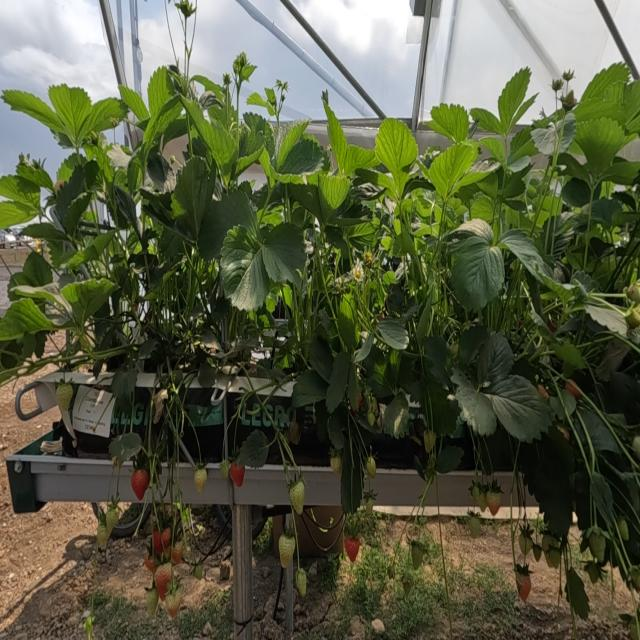Flowers: (352, 262, 364, 281)
Leaves: (519, 428, 575, 536), (322, 94, 379, 178), (450, 221, 503, 311), (485, 376, 551, 442), (181, 97, 236, 176), (220, 226, 268, 311), (198, 190, 255, 260), (172, 156, 214, 240), (375, 119, 418, 196), (574, 63, 628, 123), (575, 117, 624, 179), (426, 141, 477, 198), (261, 223, 306, 287), (453, 368, 495, 435), (499, 230, 552, 279), (18, 281, 75, 326), (3, 90, 64, 132), (49, 84, 91, 144), (62, 279, 115, 324), (423, 370, 459, 435), (476, 332, 514, 389), (0, 299, 54, 339), (499, 68, 530, 132), (56, 165, 84, 234), (144, 97, 179, 149), (278, 136, 323, 175), (341, 434, 363, 513), (541, 211, 577, 259), (81, 97, 122, 139), (105, 183, 138, 232), (318, 174, 350, 224), (276, 121, 308, 170), (582, 410, 618, 452), (429, 104, 467, 143), (327, 352, 352, 411), (350, 169, 396, 201), (147, 67, 172, 124), (363, 346, 391, 396), (245, 113, 275, 158), (424, 336, 450, 387), (470, 195, 499, 240), (292, 370, 327, 407), (585, 305, 628, 335), (291, 185, 330, 218), (0, 175, 40, 207), (308, 334, 334, 382), (16, 156, 53, 189), (458, 325, 489, 364), (146, 149, 174, 192), (383, 392, 409, 438), (565, 568, 588, 619), (591, 474, 613, 525), (237, 431, 268, 467), (112, 368, 136, 414), (340, 220, 375, 251), (460, 159, 500, 186), (109, 432, 142, 463), (377, 316, 407, 350), (340, 293, 360, 343), (119, 85, 148, 119), (23, 252, 51, 286), (0, 201, 35, 228), (606, 158, 640, 185), (470, 108, 503, 135), (555, 342, 585, 370), (337, 312, 357, 354), (511, 127, 536, 160), (435, 446, 463, 474), (393, 223, 416, 256), (479, 137, 506, 165), (24, 223, 67, 240), (623, 80, 639, 125), (159, 229, 183, 258), (328, 410, 344, 450), (532, 126, 554, 155), (353, 333, 375, 362), (560, 113, 576, 152), (107, 144, 131, 169), (200, 331, 221, 354), (51, 242, 74, 263), (387, 286, 405, 311), (508, 155, 531, 172), (138, 338, 157, 358)
Strawberries: (229, 52, 256, 125), (16, 388, 40, 419), (588, 529, 605, 563), (155, 564, 171, 599), (131, 470, 149, 499), (279, 535, 294, 567), (56, 383, 73, 410), (289, 483, 303, 514), (105, 507, 119, 538), (175, 0, 196, 20), (344, 537, 359, 562), (165, 592, 179, 618), (153, 530, 167, 554), (411, 540, 423, 568), (586, 561, 601, 583), (561, 89, 576, 111), (469, 482, 482, 507), (423, 430, 436, 455), (154, 390, 167, 414), (97, 522, 109, 548), (565, 380, 581, 399), (194, 467, 206, 491), (230, 465, 243, 487), (486, 493, 499, 515), (295, 569, 306, 595), (519, 532, 531, 555), (626, 307, 639, 328), (519, 577, 530, 601), (468, 514, 479, 538), (546, 549, 559, 567), (331, 454, 342, 475), (289, 421, 299, 443), (144, 555, 156, 572), (172, 543, 182, 563), (366, 456, 375, 477), (551, 79, 563, 94), (220, 460, 229, 477), (562, 70, 574, 81), (393, 219, 401, 235), (533, 545, 541, 561), (194, 565, 203, 579), (382, 236, 391, 250), (633, 436, 639, 457), (365, 498, 372, 513), (364, 252, 371, 265)
